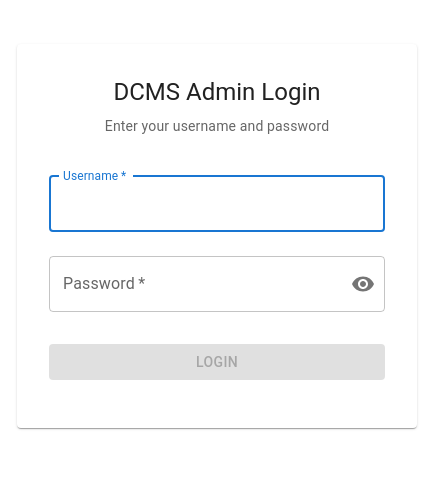
Test: AdminLogin › shows the server error message on invalid credentials
This screenshot has width=435, height=479.
Type "alice" into the field labelled "Username *" at coordinates (217, 204), box [49, 176, 385, 232]
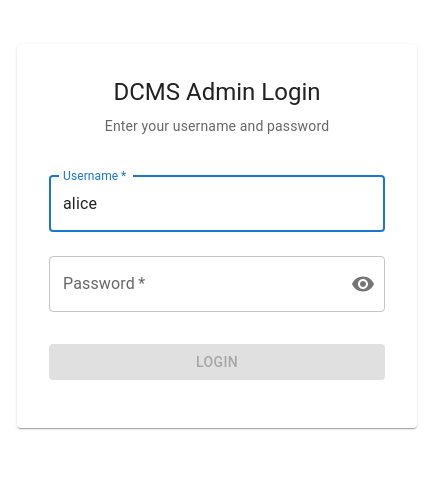
Type "hunter2" into the password field labelled "Password *" at coordinates (192, 284), box [49, 256, 335, 312]
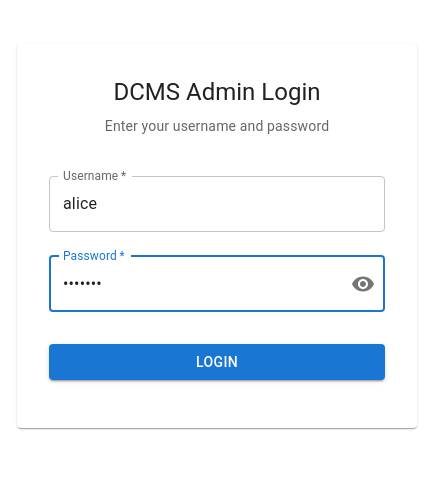
Click the button "Login" at coordinates (217, 362), box [49, 344, 385, 380]
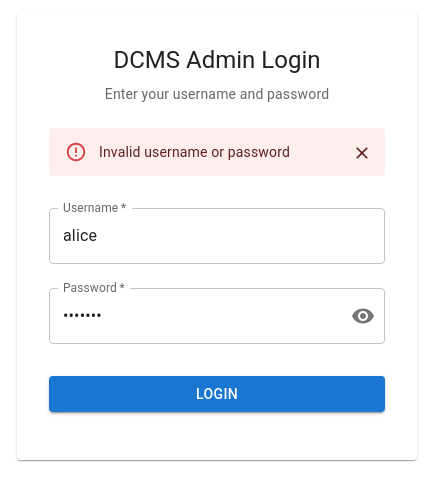
Check: the text "Invalid username or password" is shown, box [99, 144, 290, 160]
